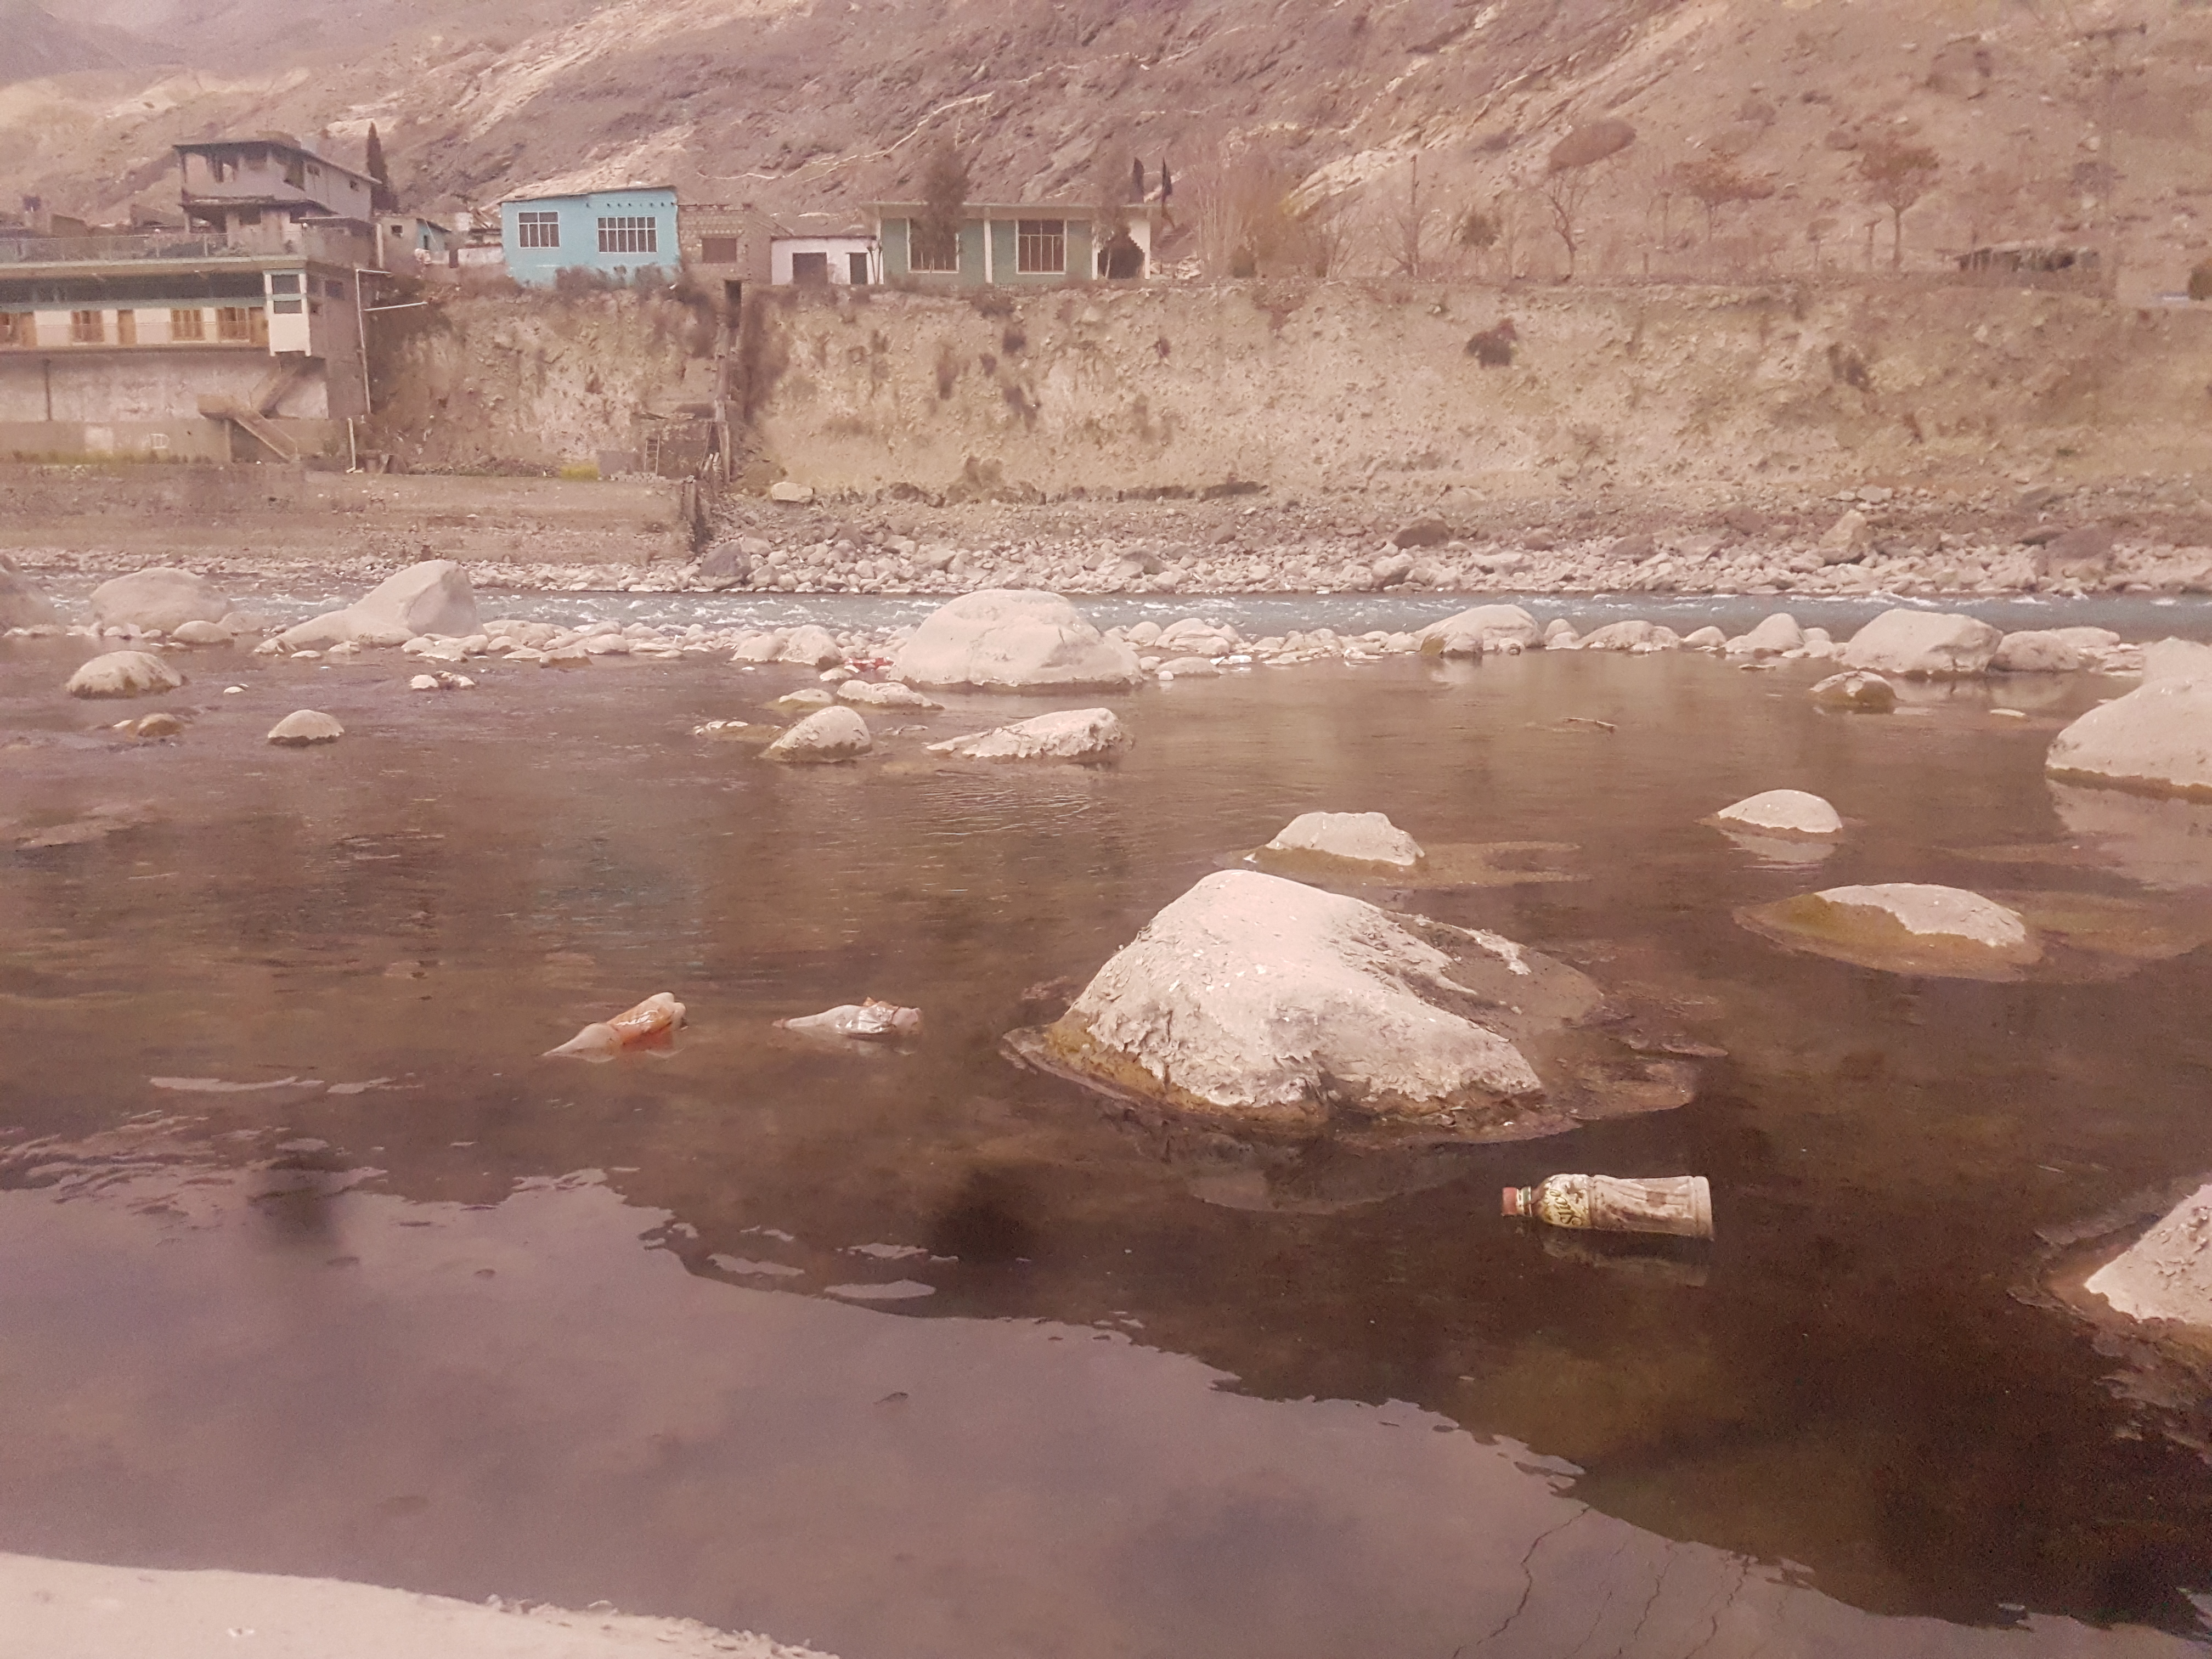Plastic Bottle: (1500, 1173, 1712, 1237), (542, 992, 688, 1054), (772, 1000, 921, 1033), (848, 657, 892, 666), (1630, 641, 1655, 653)
